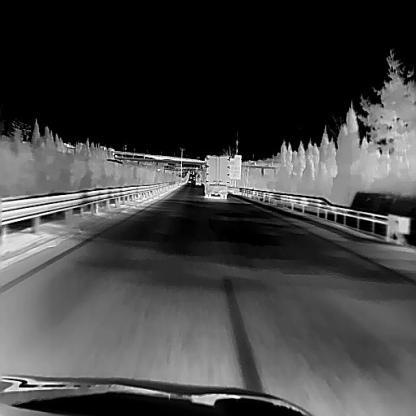car: (202, 155, 230, 199), (194, 173, 201, 185)
